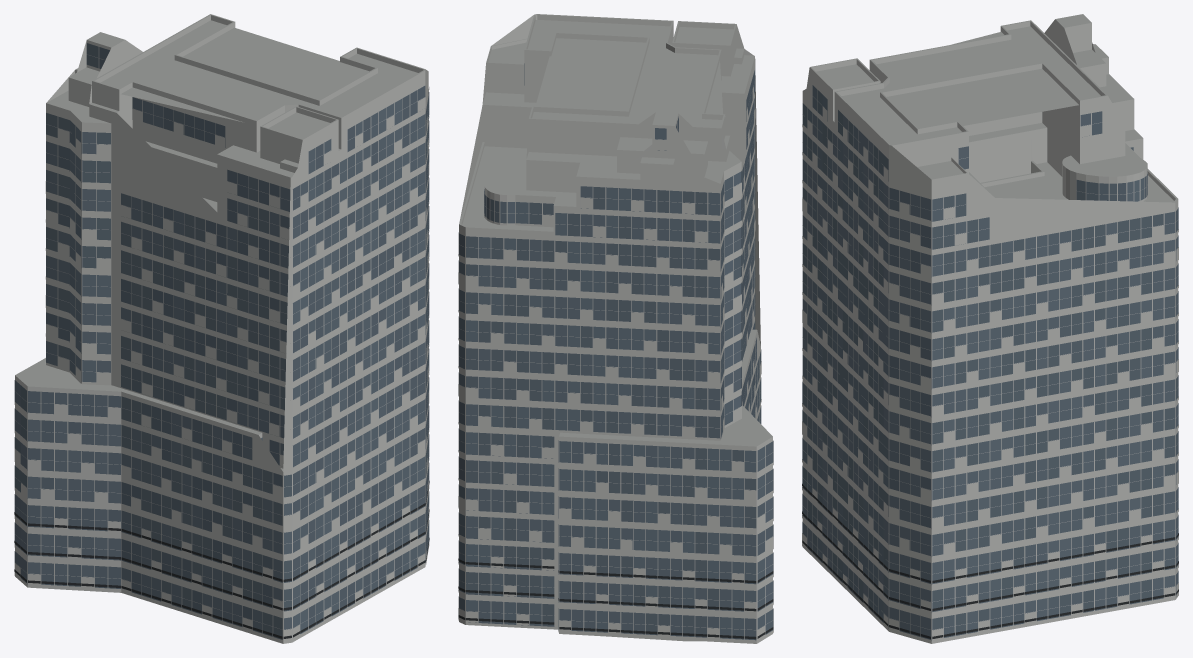
File: fukuras.glb
3 views of the same model, side by side, from view 1: azimuth 30°, elevation 25°; view 2: azimuth 150°, elevation 25°; view 3: azimuth 270°, elevation 25° (orthographic). The views are drawn at different scales.
Parts seen in each view (by area): view 1: fukuras_wall, fukuras_glass1, fukuras_glass0, fukuras_glass2, fukuras_spandrel, fukuras_roof, fukuras_frame, fukuras_sign_housing; view 2: fukuras_wall, fukuras_glass2, fukuras_glass1, fukuras_glass0, fukuras_roof, fukuras_spandrel, fukuras_frame, fukuras_sign_housing; view 3: fukuras_wall, fukuras_glass0, fukuras_glass1, fukuras_glass2, fukuras_spandrel, fukuras_roof, fukuras_frame, fukuras_sign_housing.
Boxes of the visible parts, bbox=[...] form: fukuras_wall: bbox=[15, 15, 428, 643]; fukuras_glass1: bbox=[14, 43, 429, 639]; fukuras_glass0: bbox=[14, 47, 429, 629]; fukuras_glass2: bbox=[21, 97, 429, 633]; fukuras_spandrel: bbox=[14, 65, 429, 643]; fukuras_roof: bbox=[15, 14, 425, 471]; fukuras_frame: bbox=[15, 47, 428, 639]; fukuras_sign_housing: bbox=[14, 481, 429, 638]; fukuras_wall: bbox=[459, 14, 772, 643]; fukuras_glass2: bbox=[458, 69, 773, 639]; fukuras_glass1: bbox=[458, 63, 773, 640]; fukuras_glass0: bbox=[458, 73, 773, 637]; fukuras_roof: bbox=[459, 14, 772, 446]; fukuras_spandrel: bbox=[458, 86, 773, 643]; fukuras_frame: bbox=[458, 101, 773, 637]; fukuras_sign_housing: bbox=[458, 558, 773, 639]; fukuras_wall: bbox=[802, 19, 1178, 643]; fukuras_glass0: bbox=[802, 90, 1178, 635]; fukuras_glass1: bbox=[802, 85, 1178, 637]; fukuras_glass2: bbox=[802, 113, 1178, 640]; fukuras_spandrel: bbox=[802, 106, 1178, 643]; fukuras_roof: bbox=[810, 14, 1177, 202]; fukuras_frame: bbox=[802, 85, 1178, 640]; fukuras_sign_housing: bbox=[802, 484, 1178, 638].
Size of the model in its own units: 73.66 by 105 by 70.97.
